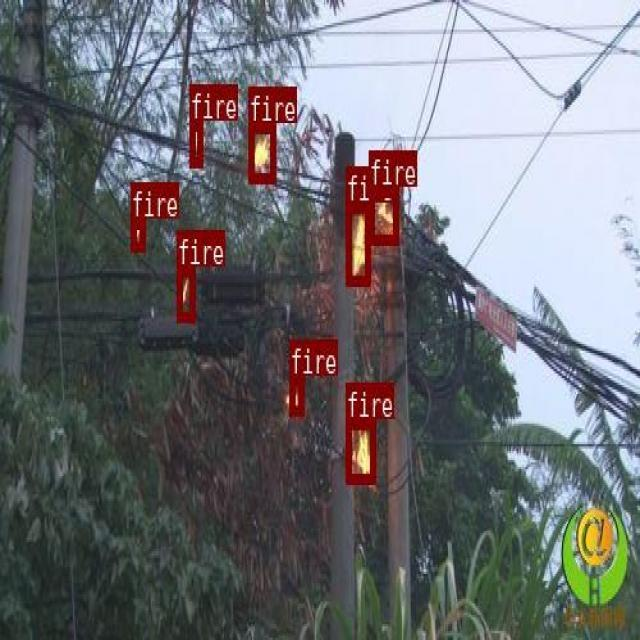fire: (345, 202, 369, 283), (345, 417, 374, 482), (368, 187, 398, 243), (248, 121, 274, 182), (176, 267, 194, 321), (189, 119, 202, 165), (289, 374, 302, 414), (130, 217, 144, 249)
